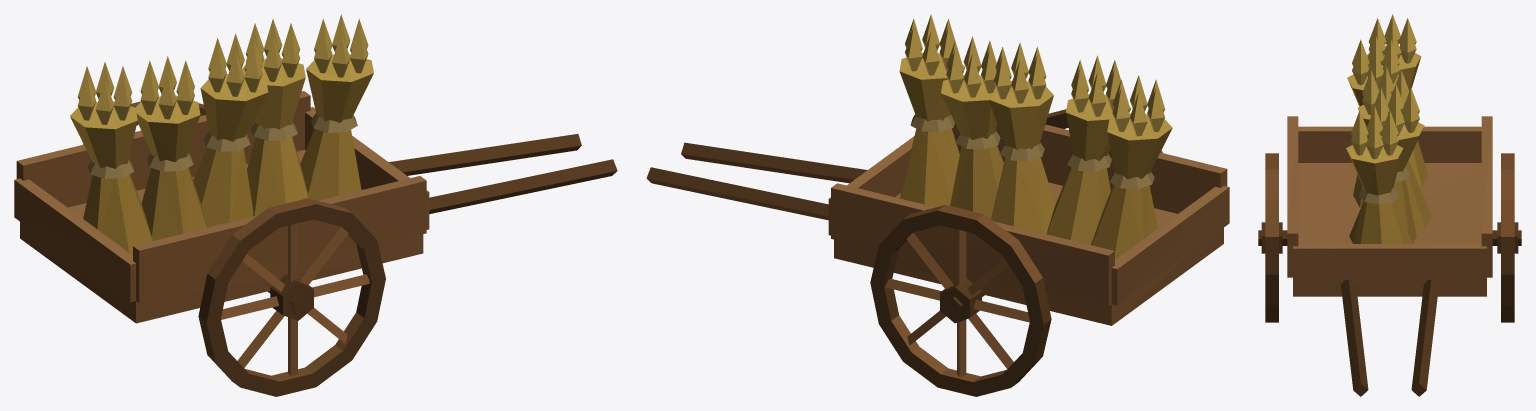
The model's file is cart.glb.
3 renders of one model, left to right at view 1: azimuth 30°, elevation 25°; view 2: azimuth 150°, elevation 25°; view 3: azimuth 270°, elevation 25°, orthographic. The views are drawn at different scales.
Parts seen in each view (by area): view 1: base, wheelL_m; view 2: base, wheelR_m; view 3: base, wheelL_m, wheelR_m.
Part boxes in pixels (box(x1,y1,x2,y2)): base: box(14, 14, 617, 323); wheelL_m: box(198, 198, 385, 396); base: box(646, 14, 1229, 325); wheelR_m: box(870, 205, 1051, 396); base: box(1258, 14, 1521, 396); wheelL_m: box(1261, 153, 1282, 322); wheelR_m: box(1497, 153, 1518, 322).
Bounding box in the file's own units: 0.7287 × 0.3918 × 0.3801.
